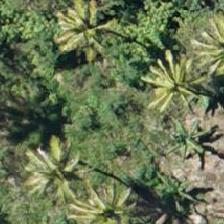coconut_tree: (8, 119, 98, 209), (127, 38, 217, 128), (26, 0, 116, 71), (65, 173, 155, 223), (177, 1, 223, 91)
